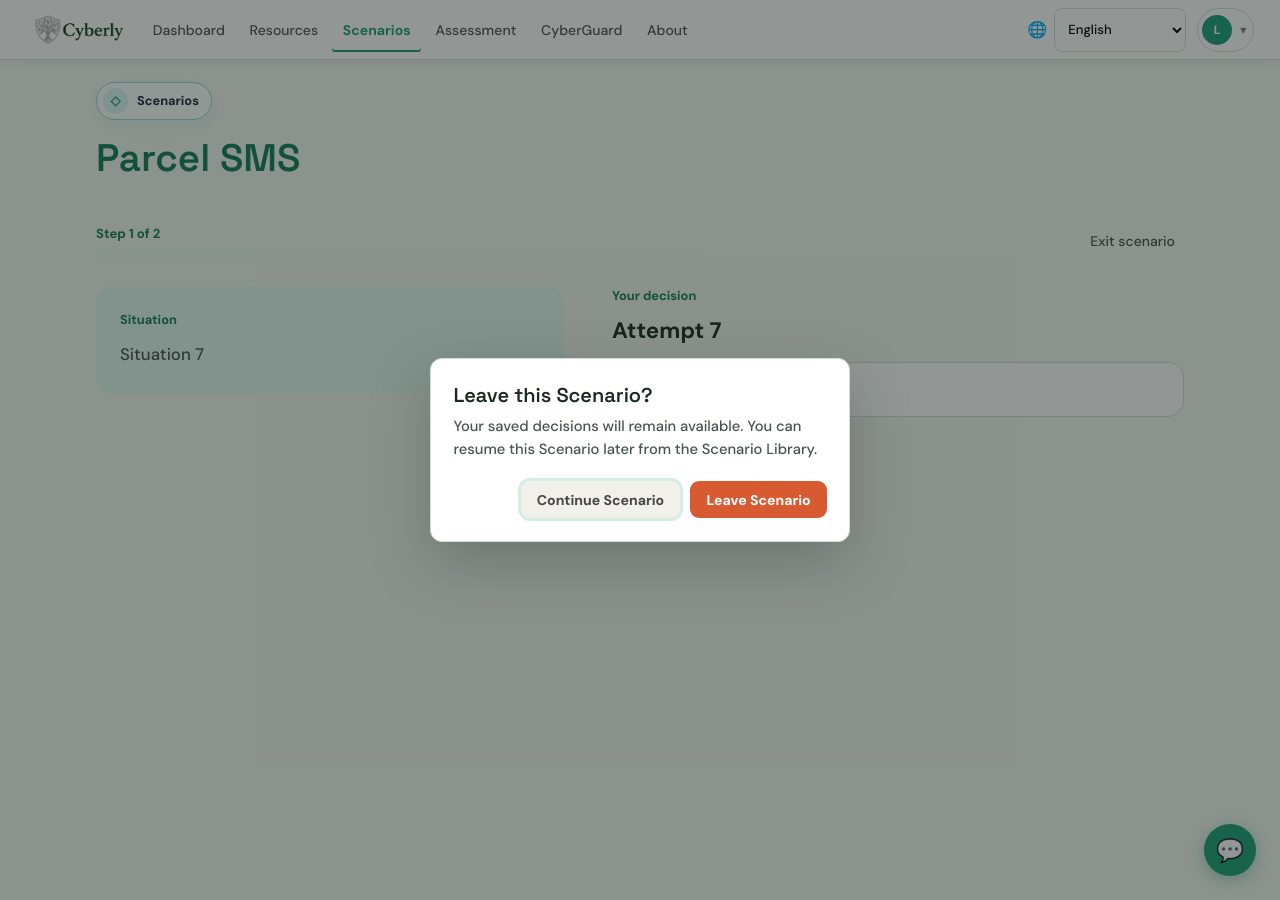
it: C01 cancellation preserves old activity; confirmation leaves it and executes exact queued target
Expected: the text "Situation 7" is shown, top-left (120, 343), bottom-right (204, 365)
Expected: the dialog is shown, top-left (430, 358), bottom-right (850, 542)
Click the button "Continue Scenario": (600, 500) top-left (521, 481), bottom-right (680, 518)
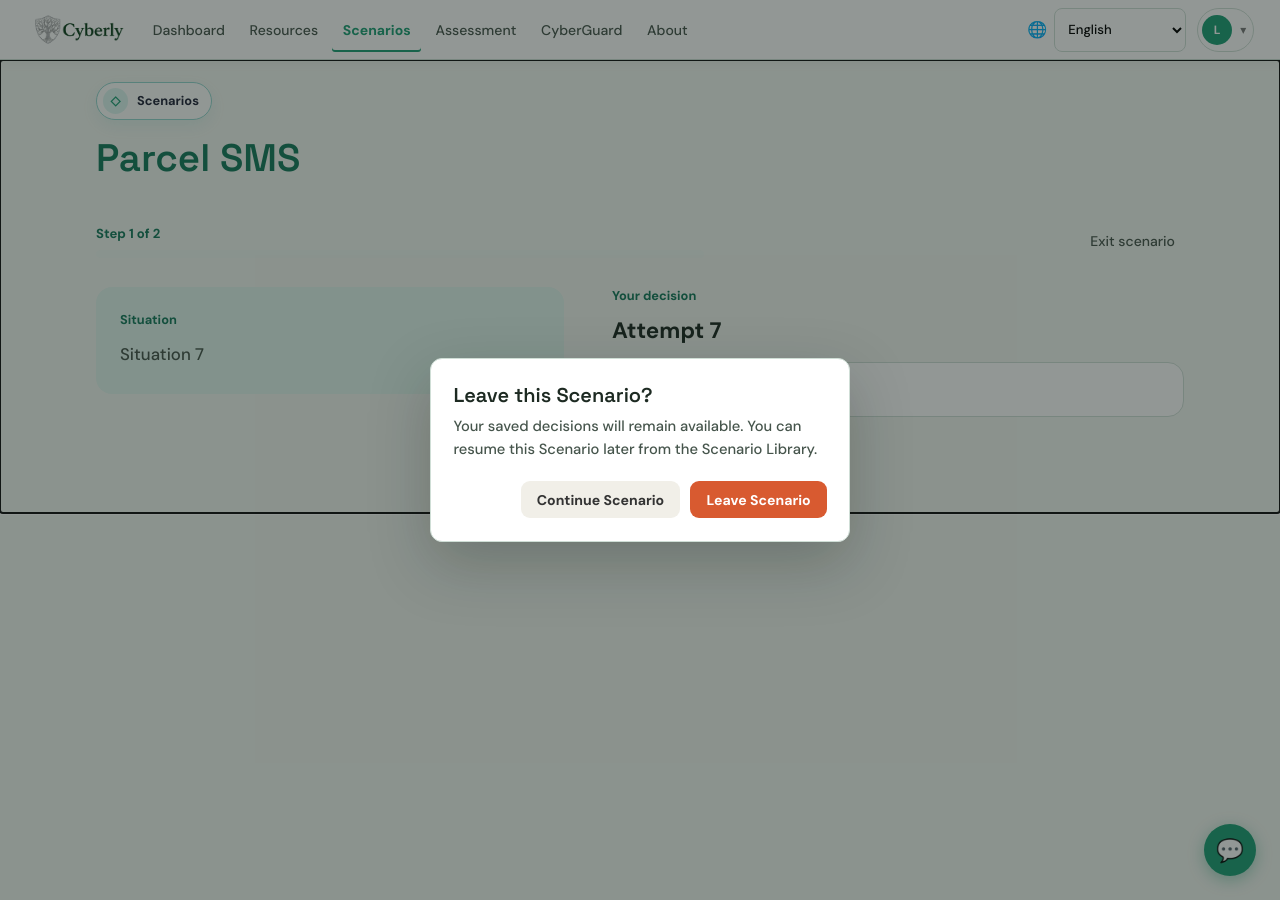
Expected: the text "Situation 7" is shown, top-left (120, 343), bottom-right (204, 365)
Click the button "Leave Scenario": (759, 500) top-left (690, 481), bottom-right (827, 518)
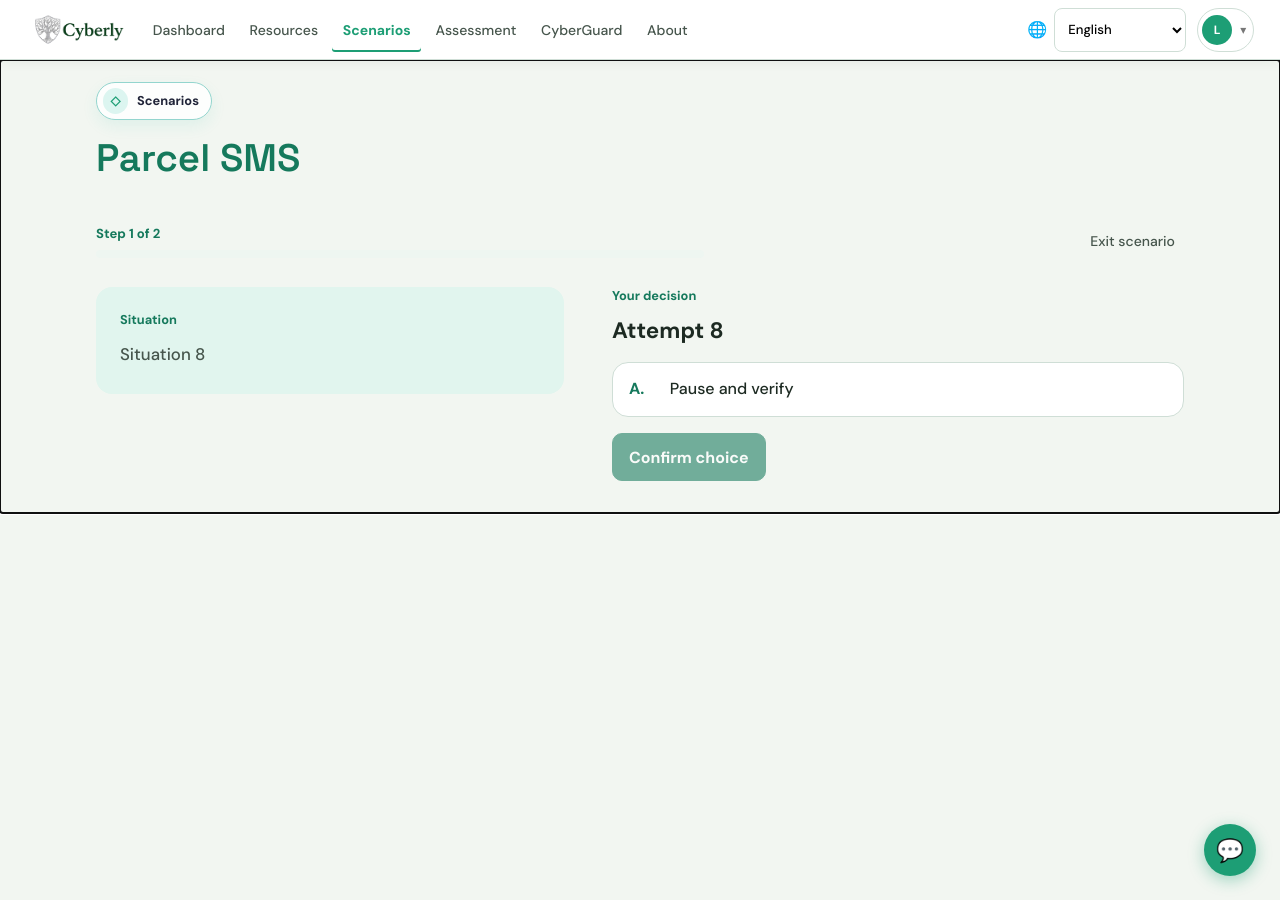
Now the text "Situation 8" is shown, box top-left (120, 343), bottom-right (205, 365)
